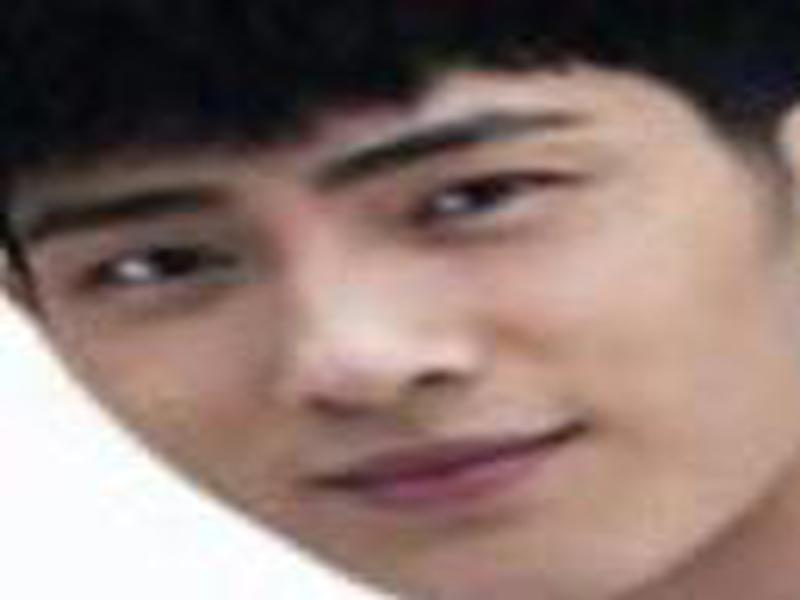without_mask: (8, 70, 778, 595)
